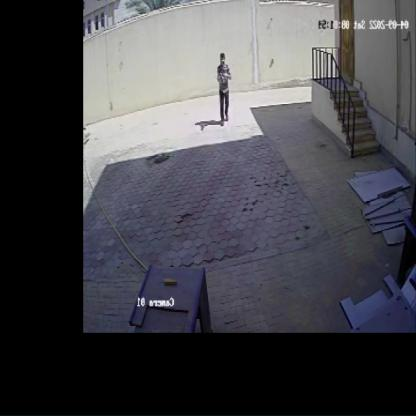handgun: (214, 66, 231, 78)
